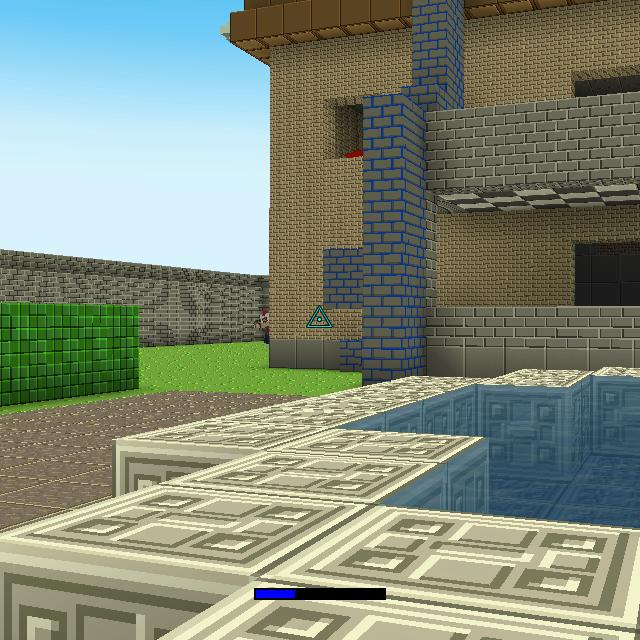enemy: (253, 308, 270, 346), (345, 148, 364, 158)
